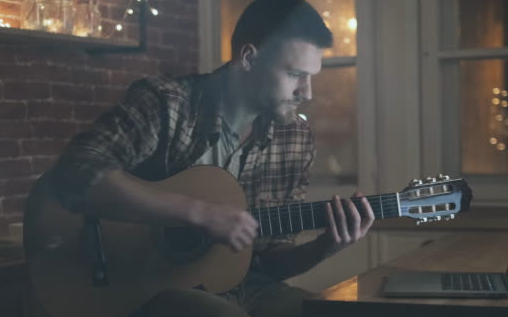fretboard: (246, 192, 396, 241)
